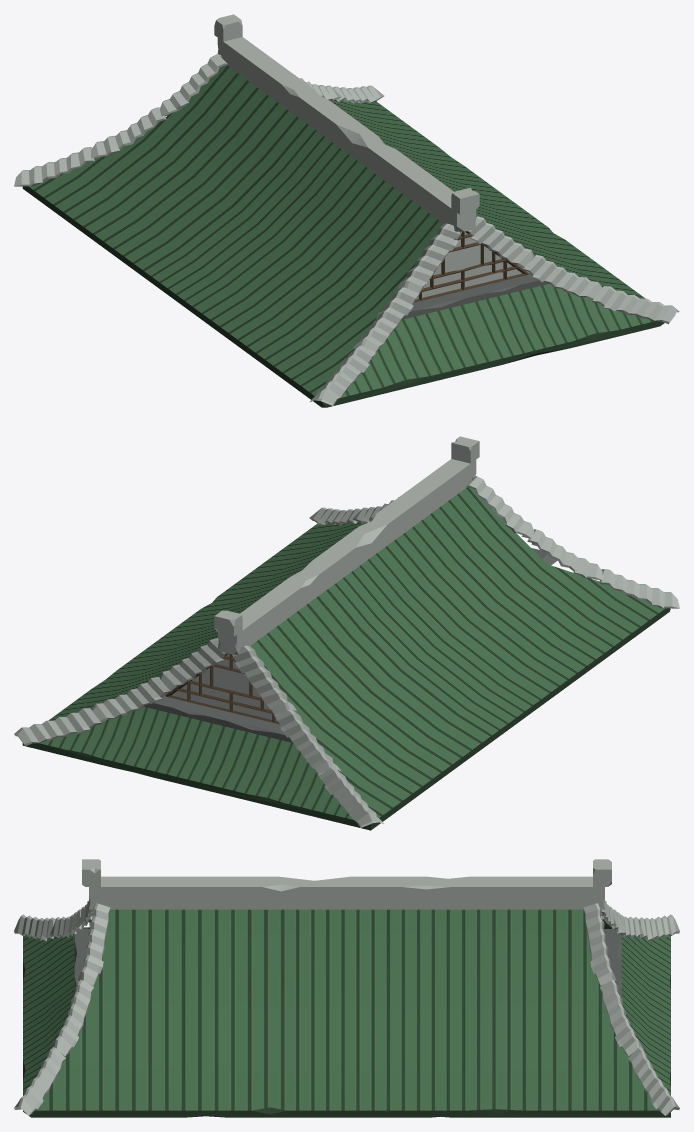
The model's file is SM_Env_Roof_07.fbx.
3 renders of one model, top to bottom at view 1: azimuth 30°, elevation 25°; view 2: azimuth 150°, elevation 25°; view 3: azimuth 270°, elevation 25°, orthographic. The views are drawn at different scales.
Parts seen in each view (by area): view 1: SM_Env_Roof_07; view 2: SM_Env_Roof_07; view 3: SM_Env_Roof_07.
Boxes of the visible parts, x1,y1,x2,y2 form: SM_Env_Roof_07: (14,14,679,407); SM_Env_Roof_07: (14,436,679,830); SM_Env_Roof_07: (14,859,679,1117).
Bounding box in the file's own units: 302 × 116 × 435.
1 material, 1 textured.
